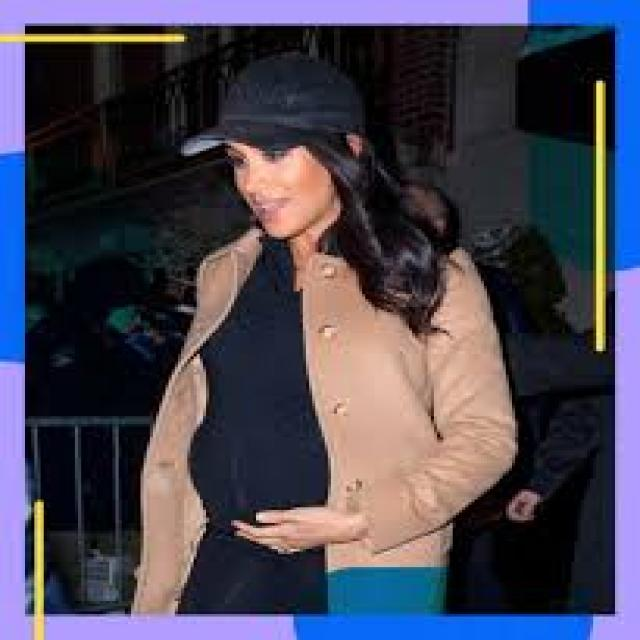cap: (168, 44, 368, 195)
